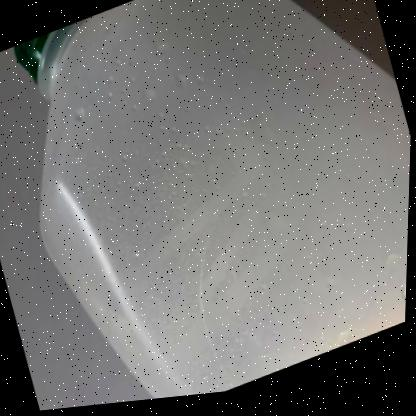Plastic: (14, 0, 412, 402)
